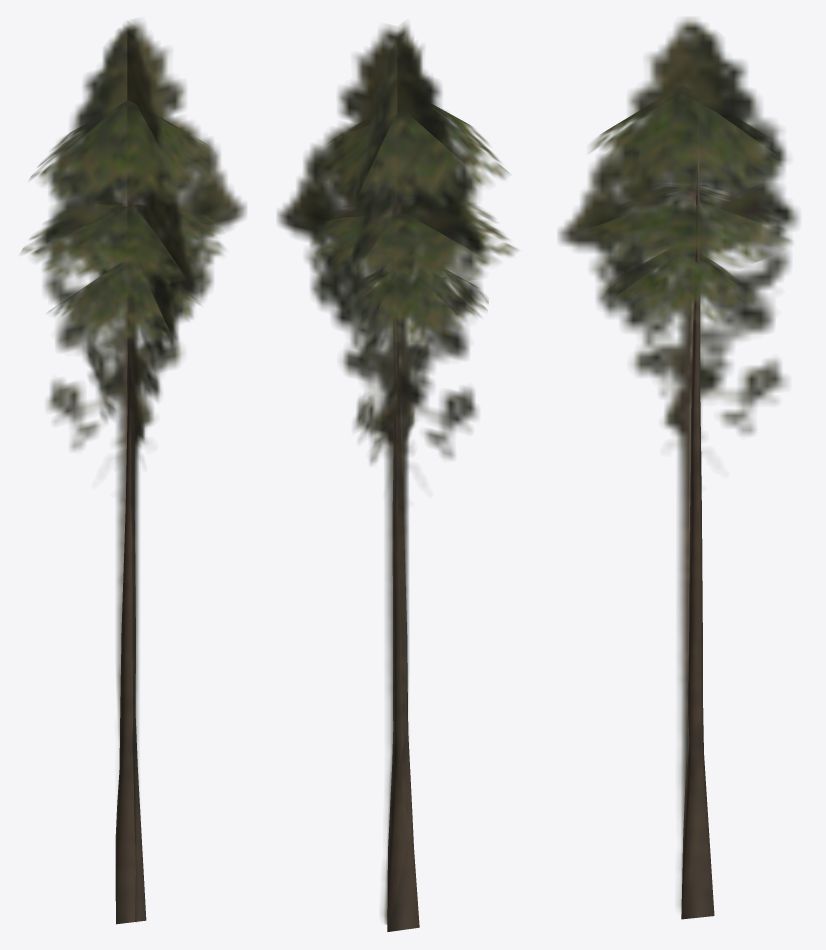
The model's file is wld_tree2.glb.
The picture shows the model from 3 angles, left to right: view 1: azimuth 30°, elevation 25°; view 2: azimuth 150°, elevation 25°; view 3: azimuth 270°, elevation 25°; orthographic projection.
Visible parts, largest first — view 1: Background_Tree_Atlas.005_Background_Tree_Atlas_0; view 2: Background_Tree_Atlas.005_Background_Tree_Atlas_0; view 3: Background_Tree_Atlas.005_Background_Tree_Atlas_0.
Boxes of the visible parts, x1,y1,x2,y2 form: Background_Tree_Atlas.005_Background_Tree_Atlas_0: (21, 19, 246, 924); Background_Tree_Atlas.005_Background_Tree_Atlas_0: (277, 23, 518, 931); Background_Tree_Atlas.005_Background_Tree_Atlas_0: (558, 17, 799, 919).
Bounding box in the file's own units: 8.86 × 33.27 × 8.55.
Materials: 1 (1 with a texture image).
